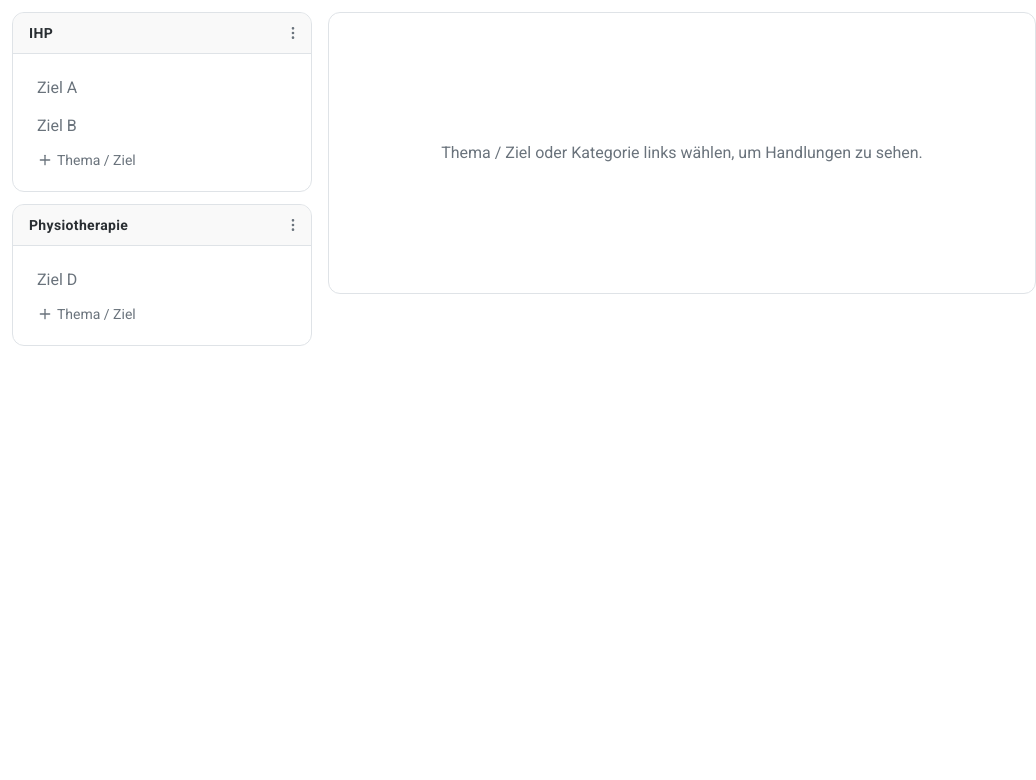
AssessmentOutline planning master-detail › ersetzt mit Klick auf eine andere Disziplin die bisherige Auswahl
The image size is (1036, 780).
Click the button "Ziel D" at (57, 280), box [29,262,295,298]
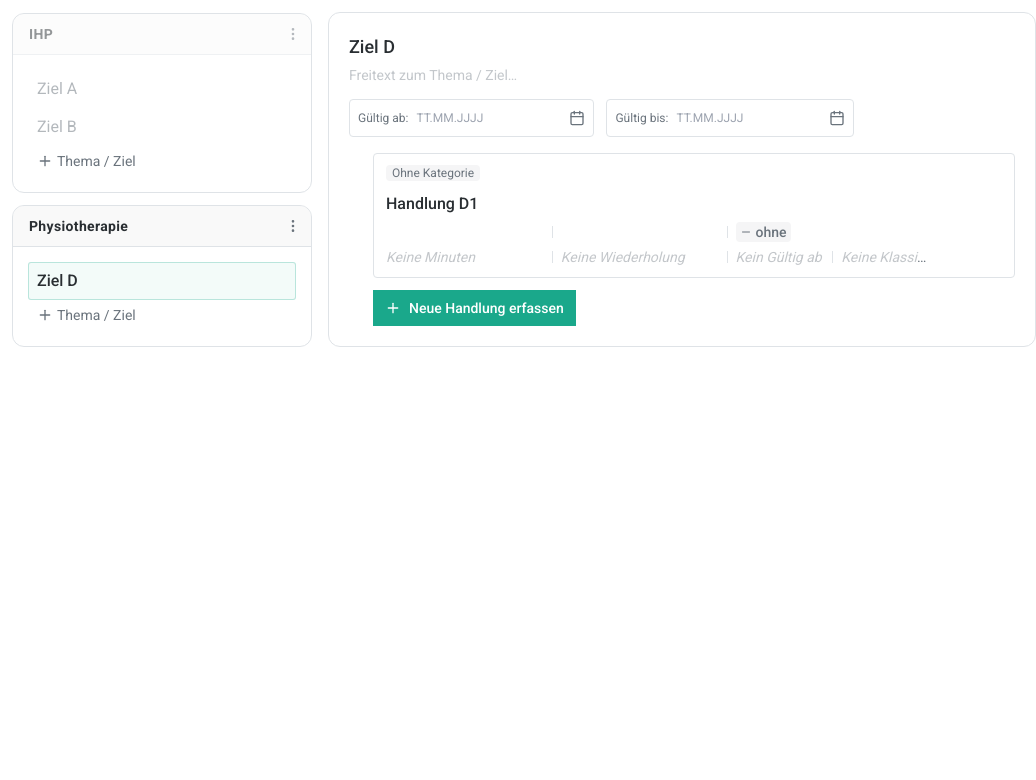
Click the button "IHP" at (41, 34), box [13,14,279,54]
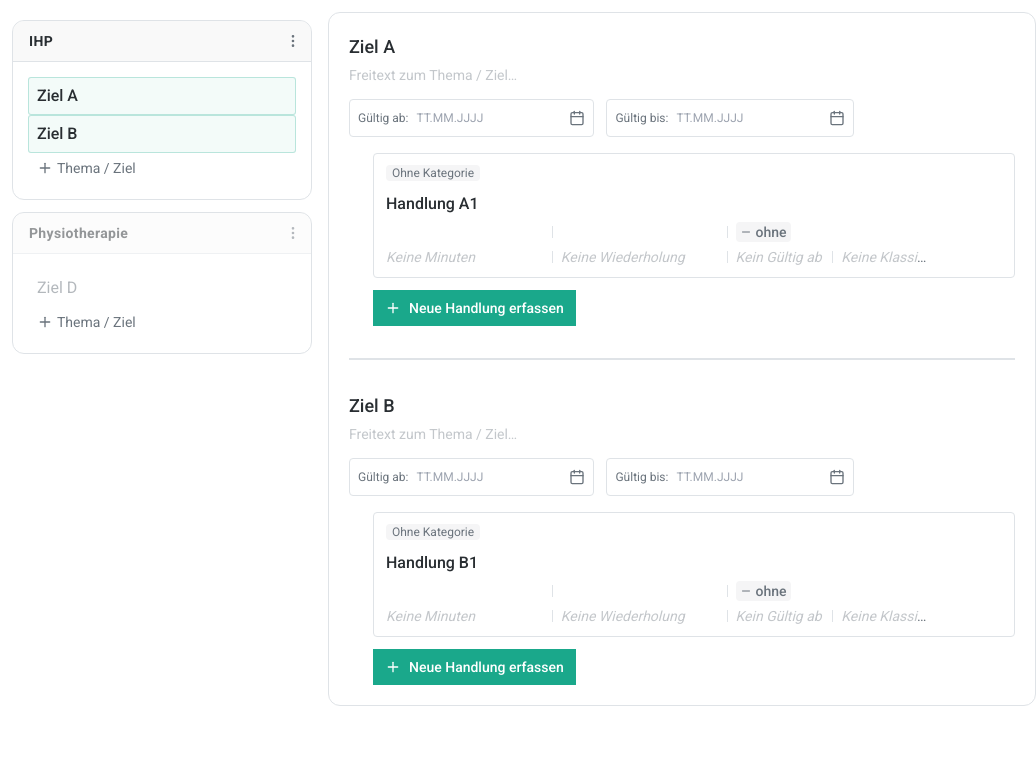
Check: the text "Handlung A1" is shown, box [386,192,478,216]
Check: the text "Handlung B1" is shown, box [386,551,478,575]
Check: the text "Handlung D1" is gone
